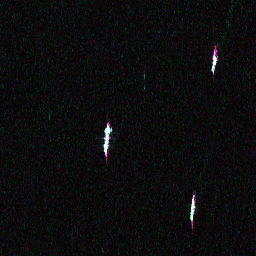ship: (102, 125, 113, 154), (187, 201, 197, 221), (208, 54, 219, 72)
